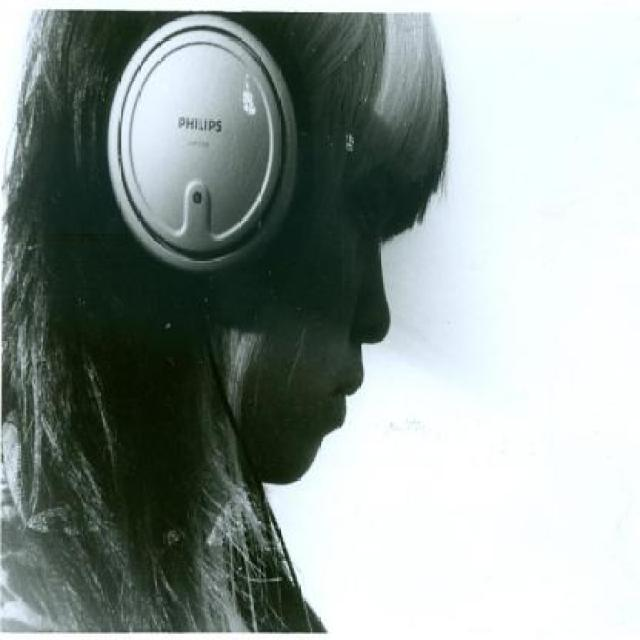earphone: (98, 27, 320, 290)
